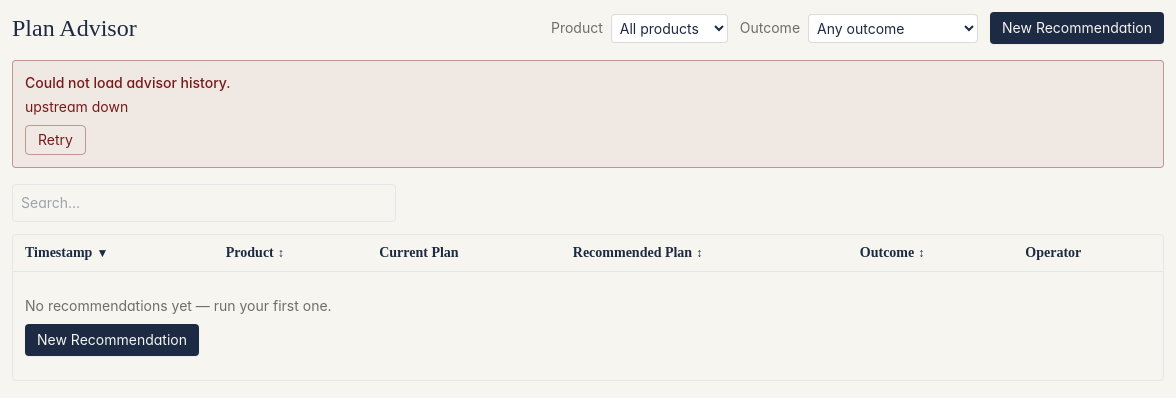
PlanAdvisor (HUB-1638) › AC#10 — error state with Retry › error banner renders + Retry refires the fetch
Expected: the message "Could not load advisor history. upstream down Retry" is shown, [12,60,1164,168]
Click the button "Retry".
click(55, 140)  # box [25,125,86,155]
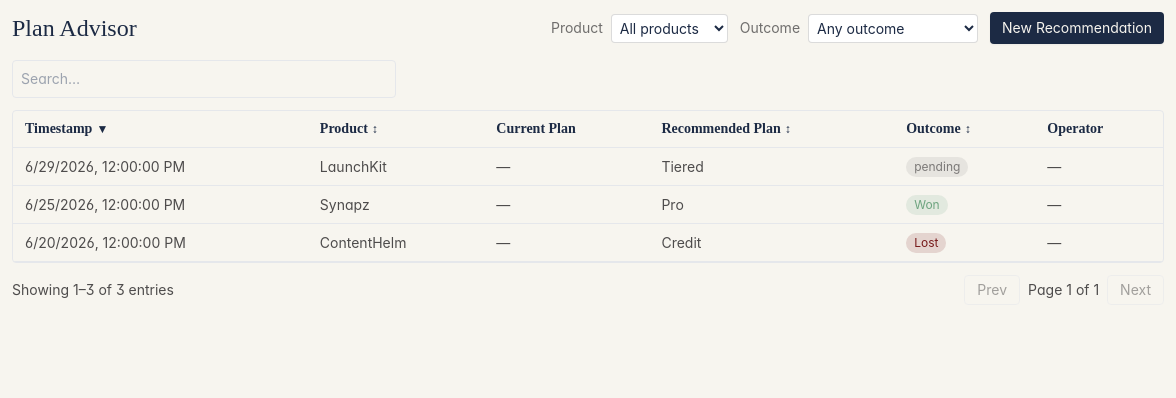
Result: the row with test id "data-table-row" that starts with "6/29/2026, 12:00:00 PM" is shown at [13,148,1163,186]
